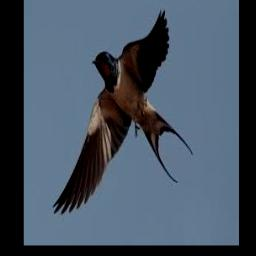Swallow: (52, 8, 192, 213)
